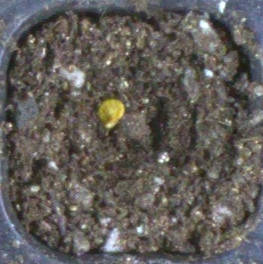chilli seed: (96, 97, 124, 128)
